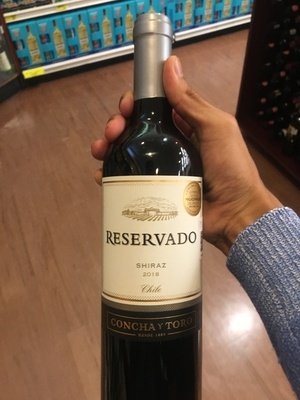reservado shiraz: (94, 31, 213, 400)
